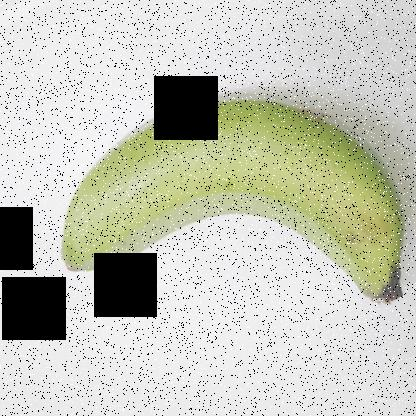freshunripe: (58, 72, 414, 330)
